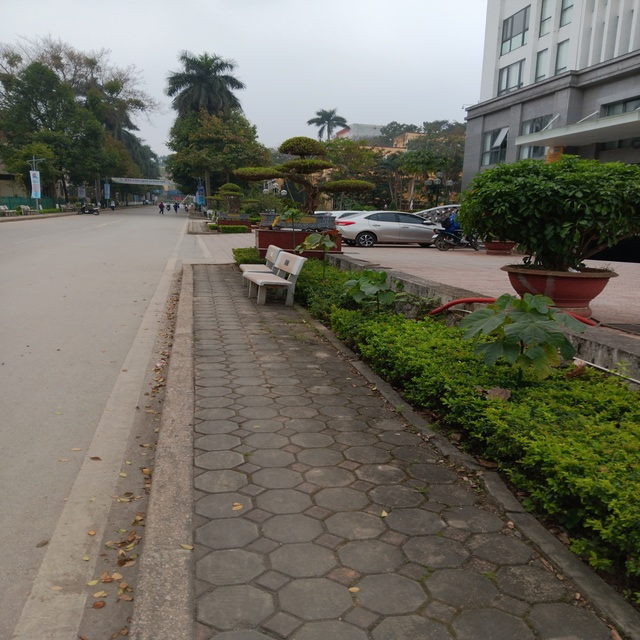gheda: (250, 254, 308, 313), (237, 243, 289, 297)
